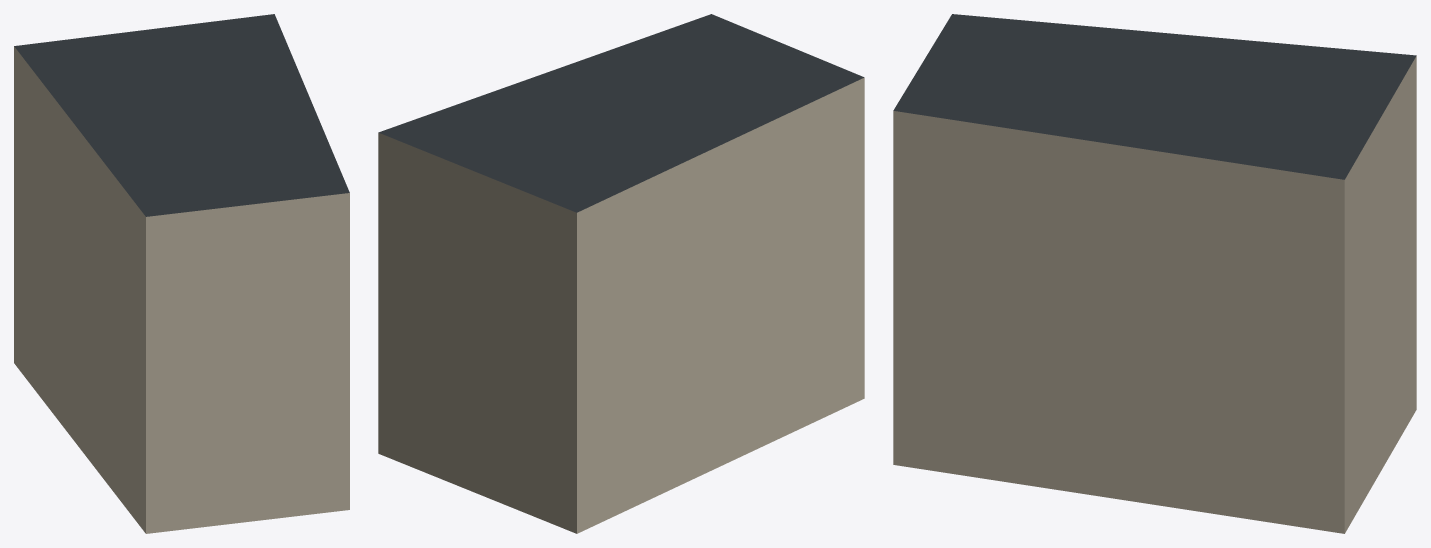
3 renders of one model, left to right at view 1: azimuth 30°, elevation 25°; view 2: azimuth 150°, elevation 25°; view 3: azimuth 270°, elevation 25°, orthographic. The views are drawn at different scales.
Visible parts, largest first — view 1: tuile; view 2: tuile; view 3: tuile.
Part boxes in pixels (x1=…): tuile: x1=14, y1=14, x2=349, y2=533; tuile: x1=378, y1=14, x2=864, y2=533; tuile: x1=893, y1=14, x2=1416, y2=533.
Bounding box in the file's own units: 6 × 5.97 × 8.
